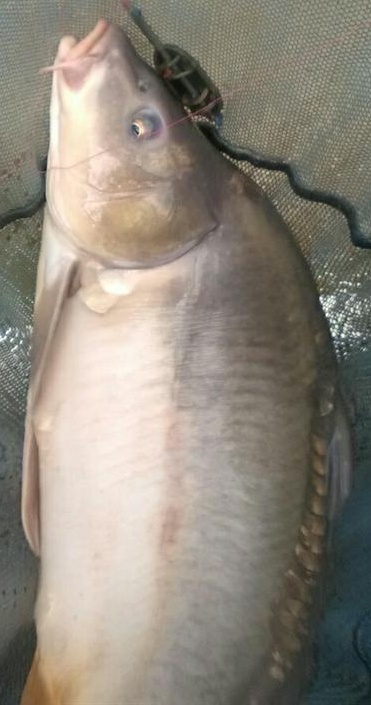Cyprinus carpio: (20, 20, 351, 705)
